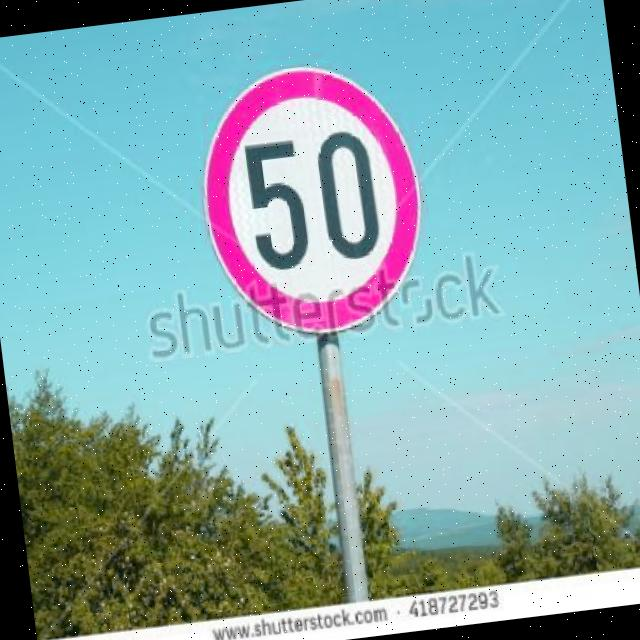Ograniczenie predkosci do 50: (192, 61, 440, 346)
